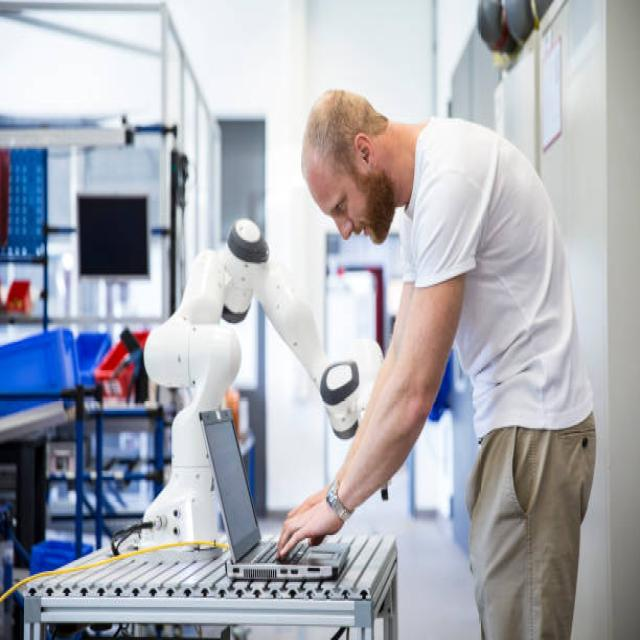Robotic-arm: (136, 210, 366, 580)
